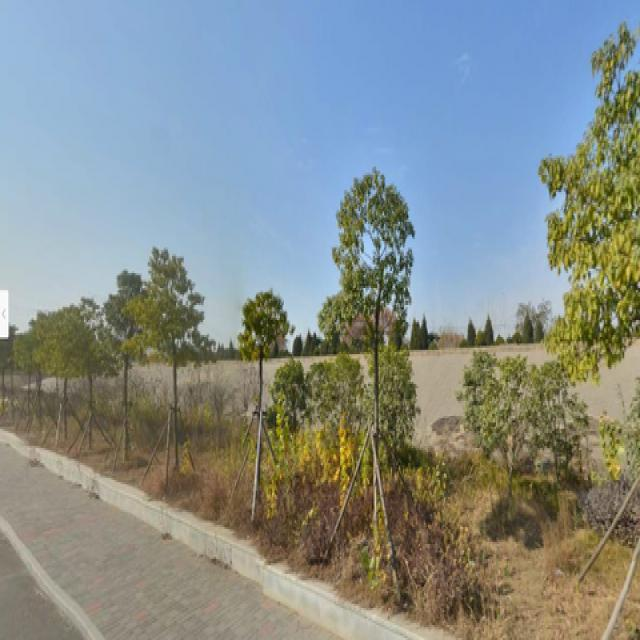cinn: (339, 192, 400, 499), (149, 267, 195, 482), (253, 277, 272, 497)
